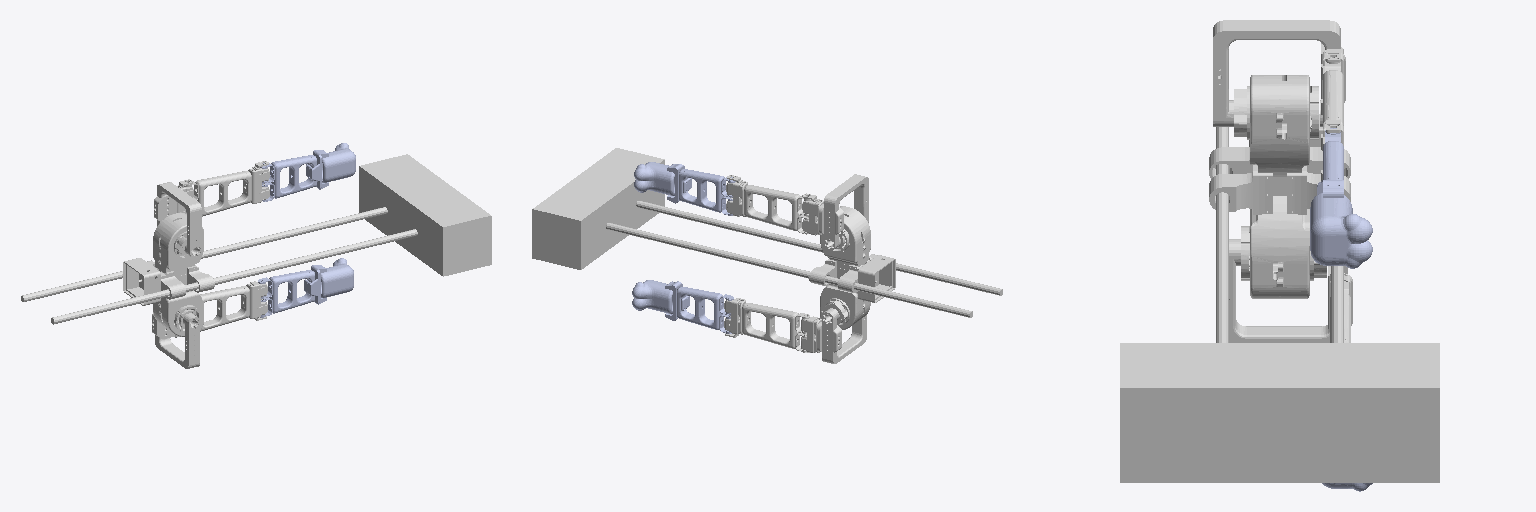
robot.urdf — Pata_Pacial2URDFV9:
<?xml version="1.0" encoding="utf-8"?>
<!-- This URDF was automatically created by SolidWorks to URDF Exporter! Originally created by Stephen Brawner (brawner@gmail.com) 
     Commit Version: 1.6.0-4-g7f85cfe  Build Version: 1.6.7995.38578
     For more information, please see http://wiki.ros.org/sw_urdf_exporter -->
<robot
  name="Pata_Pacial2URDFV9">
  <link
    name="Base_link">
    <inertial>
      <origin
        xyz="0.89862 -0.018172 -0.0011122"
        rpy="0 0 0" />
      <mass
        value="30.384" />
      <inertia
        ixx="0.80864"
        ixy="4.6363E-05"
        ixz="-6.5615E-07"
        iyy="1.489"
        iyz="-2.8743E-05"
        izz="2.1249" />
    </inertial>
    <visual>
      <origin
        xyz="0 0 0"
        rpy="0 0 0" />
      <geometry>
        <mesh
          filename="package://robot_description/meshes/meshes_completo/Base_link.STL" />
      </geometry>
      <material
        name="">
        <color
          rgba="0.89412 0.89412 0.89412 1" />
      </material>
    </visual>
    <collision>
      <origin
        xyz="0 0 0"
        rpy="0 0 0" />
      <geometry>
        <mesh
          filename="package://robot_description/meshes/meshes_completo/Base_link.STL" />
      </geometry>
    </collision>
  </link>
  <link
    name="Right_Hip_Roll_Link">
    <inertial>
      <origin
        xyz="0.094847 0.018557 -0.051255"
        rpy="0 0 0" />
      <mass
        value="1.1692" />
      <inertia
        ixx="0.0068896"
        ixy="-2.4855E-07"
        ixz="-1.8745E-08"
        iyy="0.0098103"
        iyz="-1.5926E-05"
        izz="0.0035982" />
    </inertial>
    <visual>
      <origin
        xyz="0 0 0"
        rpy="0 0 0" />
      <geometry>
        <mesh
          filename="package://robot_description/meshes/meshes_completo/Right_Hip_Roll_Link.STL" />
      </geometry>
      <material
        name="">
        <color
          rgba="0.89412 0.89412 0.89412 1" />
      </material>
    </visual>
    <collision>
      <origin
        xyz="0 0 0"
        rpy="0 0 0" />
      <geometry>
        <mesh
          filename="package://robot_description/meshes/meshes_completo/Right_Hip_Roll_Link.STL" />
      </geometry>
    </collision>
  </link>
  <joint
    name="Right_Hip_Roll_Joint"
    type="revolute">
    <origin
      xyz="0.10907 0.065472 0.14406"
      rpy="4.7124 -1.5708 0" />
    <parent
      link="Base_link" />
    <child
      link="Right_Hip_Roll_Link" />
    <axis
      xyz="0 0 -1" />
    <limit
      lower="0"
      upper="1.5708"
      effort="100"
      velocity="100" />
  </joint>
  <link
    name="Right_Hip_Pitch_Link">
    <inertial>
      <origin
        xyz="-0.00038449 -0.18817 -0.072706"
        rpy="0 0 0" />
      <mass
        value="0.82986" />
      <inertia
        ixx="0.0038103"
        ixy="3.0322E-06"
        ixz="-2.1802E-08"
        iyy="0.0013066"
        iyz="1.814E-07"
        izz="0.0026907" />
    </inertial>
    <visual>
      <origin
        xyz="0 0 0"
        rpy="0 0 0" />
      <geometry>
        <mesh
          filename="package://robot_description/meshes/meshes_completo/Right_Hip_Pitch_Link.STL" />
      </geometry>
      <material
        name="">
        <color
          rgba="0.89412 0.89412 0.89412 1" />
      </material>
    </visual>
    <collision>
      <origin
        xyz="0 0 0"
        rpy="0 0 0" />
      <geometry>
        <mesh
          filename="package://robot_description/meshes/meshes_completo/Right_Hip_Pitch_Link.STL" />
      </geometry>
    </collision>
  </link>
  <joint
    name="Right_Hip_Pitch_Joint"
    type="revolute">
    <origin
      xyz="0.15823 0.097319 0.01615"
      rpy="3.1416 -1.5708 0" />
    <parent
      link="Right_Hip_Roll_Link" />
    <child
      link="Right_Hip_Pitch_Link" />
    <axis
      xyz="0 0 1" />
    <limit
      lower="-1.5708"
      upper="1.5708"
      effort="100"
      velocity="100" />
  </joint>
  <link
    name="Right_Knee_Link">
    <inertial>
      <origin
        xyz="0.0032936 -0.23235 -0.070243"
        rpy="0 0 0" />
      <mass
        value="1.3221" />
      <inertia
        ixx="0.0042399"
        ixy="0.00023663"
        ixz="-2.5939E-05"
        iyy="0.0024555"
        iyz="1.9266E-05"
        izz="0.0032113" />
    </inertial>
    <visual>
      <origin
        xyz="0 0 0"
        rpy="0 0 0" />
      <geometry>
        <mesh
          filename="package://robot_description/meshes/meshes_completo/Right_Knee_Link.STL" />
      </geometry>
      <material
        name="">
        <color
          rgba="0.79216 0.81961 0.92941 1" />
      </material>
    </visual>
    <collision>
      <origin
        xyz="0 0 0"
        rpy="0 0 0" />
      <geometry>
        <mesh
          filename="package://robot_description/meshes/meshes_completo/Right_Knee_Link.STL" />
      </geometry>
    </collision>
  </link>
  <joint
    name="Right_Knee_Joint"
    type="revolute">
    <origin
      xyz="0 -0.31324 -0.0018918"
      rpy="0 0 0" />
    <parent
      link="Right_Hip_Pitch_Link" />
    <child
      link="Right_Knee_Link" />
    <axis
      xyz="0 0 -1" />
    <limit
      lower="-1.5708"
      upper="1.5708"
      effort="100"
      velocity="100" />
  </joint>
  <link
    name="Left_Hip_Roll_Link">
    <inertial>
      <origin
        xyz="0.89862 -0.018172 -0.0011122"
        rpy="0 0 0" />
      <mass
        value="30.384" />
      <inertia
        ixx="0.80864"
        ixy="4.6363E-05"
        ixz="-6.5615E-07"
        iyy="1.489"
        iyz="-2.8743E-05"
        izz="2.1249" />
    </inertial>
    <visual>
      <origin
        xyz="0 0 0"
        rpy="0 0 0" />
      <geometry>
        <mesh
          filename="package://robot_description/meshes/meshes_completo/Left_Hip_Roll_Link.STL" />
      </geometry>
      <material
        name="">
        <color
          rgba="0.89412 0.89412 0.89412 1" />
      </material>
    </visual>
    <collision>
      <origin
        xyz="0 0 0"
        rpy="0 0 0" />
      <geometry>
        <mesh
          filename="package://robot_description/meshes/meshes_completo/Left_Hip_Roll_Link.STL" />
      </geometry>
    </collision>
  </link>
  <joint
    name="Left_Hip_Roll_Joint"
    type="revolute">
    <origin
      xyz="0.10909 0.078873 -0.14579"
      rpy="4.7124 -1.5708 0" />
    <parent
      link="Base_link" />
    <child
      link="Left_Hip_Roll_Link" />
    <axis
      xyz="0 0 1" />
    <limit
      lower="0"
      upper="1.5708"
      effort="100"
      velocity="100" />
  </joint>
  <link
    name="Left_Hip_Pitch_Link">
    <inertial>
      <origin
        xyz="-0.00038625 0.18852 -0.071064"
        rpy="0 0 0" />
      <mass
        value="0.82827" />
      <inertia
        ixx="0.0038103"
        ixy="-3.0381E-06"
        ixz="-2.4021E-08"
        iyy="0.0013065"
        iyz="-1.8002E-07"
        izz="0.0026905" />
    </inertial>
    <visual>
      <origin
        xyz="0 0 0"
        rpy="0 0 0" />
      <geometry>
        <mesh
          filename="package://robot_description/meshes/meshes_completo/Left_Hip_Pitch_Link.STL" />
      </geometry>
      <material
        name="">
        <color
          rgba="0.89412 0.89412 0.89412 1" />
      </material>
    </visual>
    <collision>
      <origin
        xyz="0 0 0"
        rpy="0 0 0" />
      <geometry>
        <mesh
          filename="package://robot_description/meshes/meshes_completo/Left_Hip_Pitch_Link.STL" />
      </geometry>
    </collision>
  </link>
  <joint
    name="Left_Hip_Pitch_Joint"
    type="revolute">
    <origin
      xyz="-0.15623 0.097361 0.01615"
      rpy="0 -1.5708 0" />
    <parent
      link="Left_Hip_Roll_Link" />
    <child
      link="Left_Hip_Pitch_Link" />
    <axis
      xyz="0 0 -1" />
    <limit
      lower="-1.5708"
      upper="1.5708"
      effort="100"
      velocity="100" />
  </joint>
  <link
    name="Left_Knee_Link">
    <inertial>
      <origin
        xyz="0.0032886 0.23235 -0.072631"
        rpy="0 0 0" />
      <mass
        value="1.3221" />
      <inertia
        ixx="0.0042399"
        ixy="-0.00023663"
        ixz="2.5939E-05"
        iyy="0.0024555"
        iyz="1.9266E-05"
        izz="0.0032113" />
    </inertial>
    <visual>
      <origin
        xyz="0 0 0"
        rpy="0 0 0" />
      <geometry>
        <mesh
          filename="package://robot_description/meshes/meshes_completo/Left_Knee_Link.STL" />
      </geometry>
      <material
        name="">
        <color
          rgba="0.79216 0.81961 0.92941 1" />
      </material>
    </visual>
    <collision>
      <origin
        xyz="0 0 0"
        rpy="0 0 0" />
      <geometry>
        <mesh
          filename="package://robot_description/meshes/meshes_completo/Left_Knee_Link.STL" />
      </geometry>
    </collision>
  </link>
  <joint
    name="Left_Knee_Joint"
    type="revolute">
    <origin
      xyz="0 0.31324 -0.00012175"
      rpy="0 0 0" />
    <parent
      link="Left_Hip_Pitch_Link" />
    <child
      link="Left_Knee_Link" />
    <axis
      xyz="0 0 1" />
    <limit
      lower="-1.5708"
      upper="1.5708"
      effort="100"
      velocity="100" />
  </joint>
</robot>

--- What the picture shows (computed from the rendered views, not written in the file) ---
3 views of the same robot in one strip: view 1: azimuth 30°, elevation 25°; view 2: azimuth 150°, elevation 25°; view 3: azimuth 270°, elevation 25° (orthographic).
Robot: Pata_Pacial2URDFV9 — 7 links, 6 joints (6 revolute); root link Base_link; default pose: all joints at 0.
Links seen in each view (by area): view 1: Base_link, Left_Knee_Link, Right_Knee_Link, Right_Hip_Pitch_Link, Right_Hip_Roll_Link, Left_Hip_Pitch_Link, Left_Hip_Roll_Link; view 2: Base_link, Left_Knee_Link, Right_Knee_Link, Right_Hip_Roll_Link, Left_Hip_Pitch_Link, Right_Hip_Pitch_Link, Left_Hip_Roll_Link; view 3: Base_link, Right_Knee_Link, Right_Hip_Roll_Link, Left_Hip_Roll_Link, Right_Hip_Pitch_Link.
Link boxes in pixels (x1,y1,x2,y2): Base_link: (21,154,491,336); Left_Knee_Link: (258,258,353,317); Right_Knee_Link: (260,143,355,201); Right_Hip_Pitch_Link: (184,161,269,216); Right_Hip_Roll_Link: (154,179,201,257); Left_Hip_Pitch_Link: (200,281,267,331); Left_Hip_Roll_Link: (152,313,199,368); Base_link: (532,148,1002,329); Left_Knee_Link: (632,280,733,333); Right_Knee_Link: (634,162,735,215); Right_Hip_Roll_Link: (802,174,868,250); Left_Hip_Pitch_Link: (724,298,809,352); Right_Hip_Pitch_Link: (726,175,811,234); Left_Hip_Roll_Link: (801,308,866,363); Base_link: (1120,47,1439,482); Right_Knee_Link: (1310,128,1372,268); Right_Hip_Roll_Link: (1213,20,1345,126); Left_Hip_Roll_Link: (1229,239,1352,342); Right_Hip_Pitch_Link: (1321,57,1343,180).
Size in the robot's own frame: 1.7 by 0.6 by 0.6499 metres.
7 mesh visuals loaded from 7 distinct referenced files (7 binary STL).
